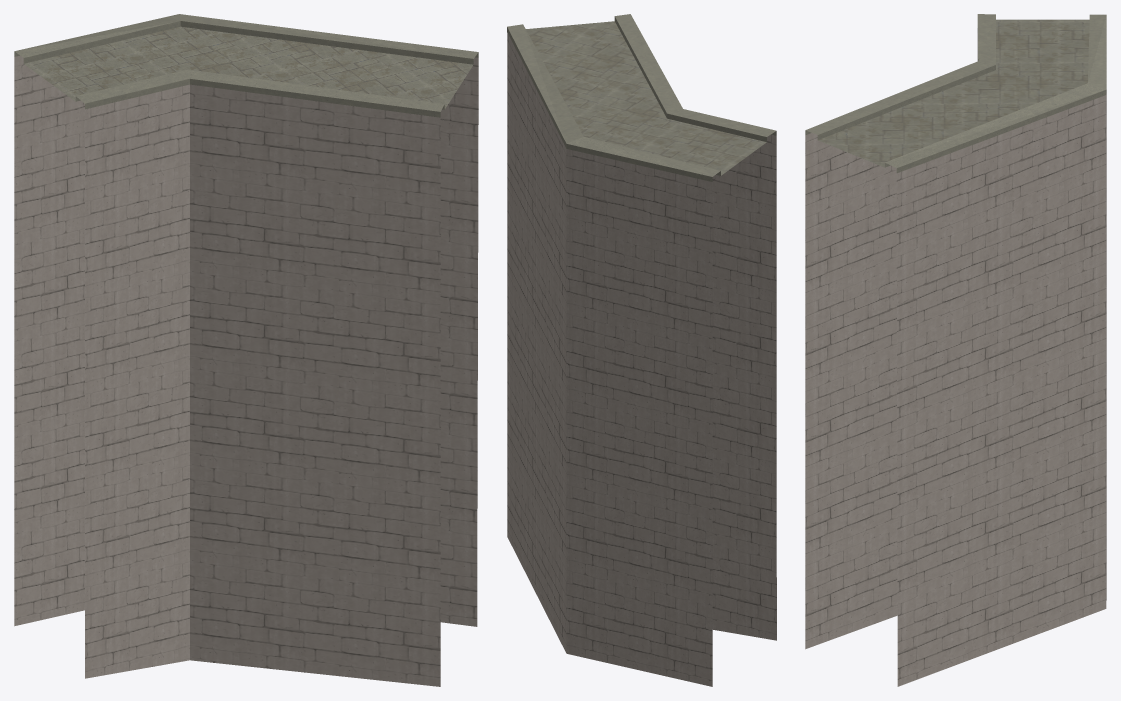
The model's file is AD_Ground_F_01.fbx.
3 views of the same model, side by side, from view 1: azimuth 30°, elevation 25°; view 2: azimuth 150°, elevation 25°; view 3: azimuth 270°, elevation 25° (orthographic). The views are drawn at different scales.
Parts seen in each view (by area): view 1: AD_Ground_F_01; view 2: AD_Ground_F_01; view 3: AD_Ground_F_01.
Part boxes in pixels (x1,y1,x2,y2): AD_Ground_F_01: (14,14,478,686); AD_Ground_F_01: (507,14,776,686); AD_Ground_F_01: (805,14,1106,686).
Size of the model in its own units: 3787 by 6042 by 3140.
3 materials, 3 textured.
